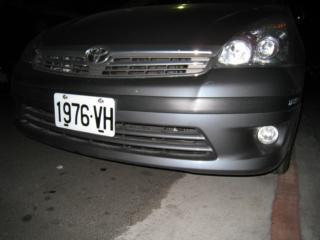plate: (51, 89, 118, 140)
